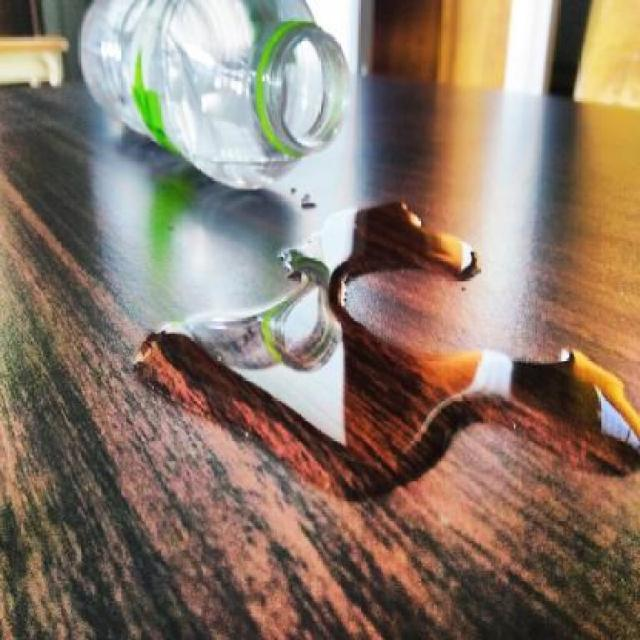bottle: (73, 1, 361, 225)
